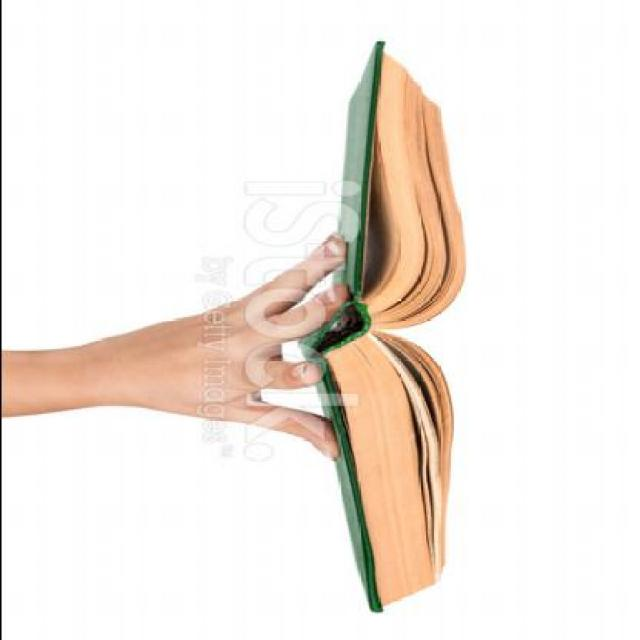book: (282, 41, 504, 640)
